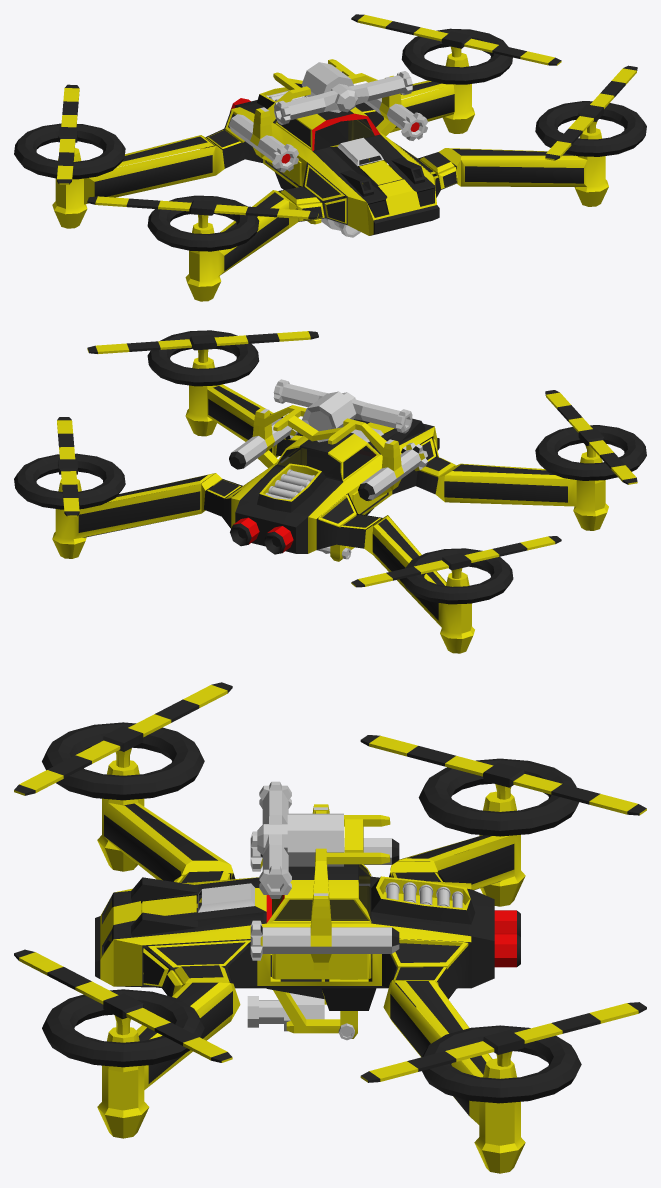
File: drone.glb
3 views of the same model, one above another, from view 1: azimuth 30°, elevation 25°; view 2: azimuth 150°, elevation 25°; view 3: azimuth 270°, elevation 25° (orthographic). The views are drawn at different scales.
Parts seen in each view (by area): view 1: drone_costum_Cube; view 2: drone_costum_Cube; view 3: drone_costum_Cube.
Part boxes in pixels (x1,y1,x2,y2): drone_costum_Cube: [14, 14, 646, 301]; drone_costum_Cube: [14, 330, 646, 653]; drone_costum_Cube: [14, 682, 646, 1173].
Size of the model in its own units: 12.4 by 3.35 by 8.76.
